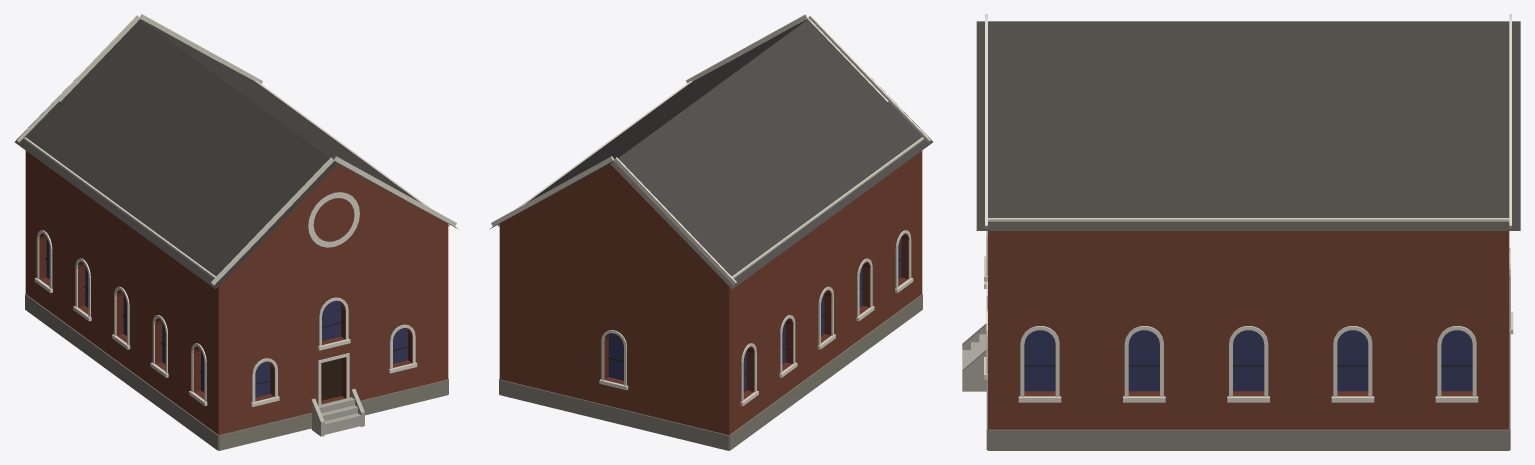
The model's file is ch-first-associate-reformed-presbyterian-1961.glb.
3 renders of one model, left to right at view 1: azimuth 30°, elevation 25°; view 2: azimuth 150°, elevation 25°; view 3: azimuth 270°, elevation 25°, orthographic. The views are drawn at different scales.
Parts seen in each view (by area): view 1: ch_brick, ch_roof, ch_trim, ch_base, ch_brick2, ch_stain, ch_conc, ch_door; view 2: ch_brick, ch_roof, ch_trim, ch_base, ch_brick2, ch_stain; view 3: ch_roof, ch_brick, ch_base, ch_stain, ch_trim, ch_conc, ch_brick2.
Part boxes in pixels (left/top/right/bottom): ch_brick: left=25, top=151, right=448, bottom=435; ch_roof: left=14, top=19, right=458, bottom=289; ch_trim: left=17, top=14, right=456, bottom=406; ch_base: left=25, top=294, right=448, bottom=450; ch_brick2: left=39, top=233, right=412, bottom=404; ch_stain: left=46, top=238, right=407, bottom=397; ch_conc: left=311, top=389, right=364, bottom=436; ch_door: left=321, top=358, right=341, bottom=400; ch_brick: left=499, top=151, right=922, bottom=435; ch_roof: left=489, top=19, right=933, bottom=289; ch_trim: left=491, top=14, right=930, bottom=405; ch_base: left=499, top=294, right=922, bottom=450; ch_brick2: left=604, top=233, right=908, bottom=399; ch_stain: left=608, top=238, right=901, bottom=392; ch_roof: left=976, top=21, right=1520, bottom=230; ch_brick: left=988, top=231, right=1509, bottom=429; ch_base: left=986, top=334, right=1510, bottom=450; ch_stain: left=1024, top=330, right=1472, bottom=391; ch_trim: left=984, top=14, right=1513, bottom=402; ch_conc: left=962, top=323, right=986, bottom=391; ch_brick2: left=1024, top=391, right=1472, bottom=396.
Size of the model in its own units: 13.45 by 14.04 by 19.64.
